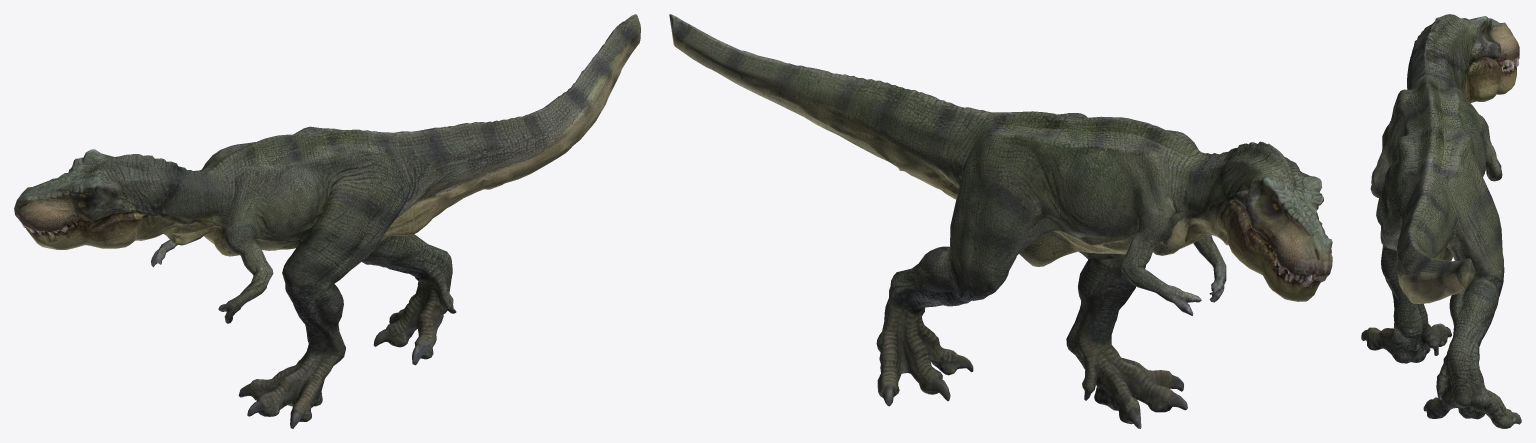
Rendered from dinosaur.glb.
3 views of the same model, side by side, from view 1: azimuth 30°, elevation 25°; view 2: azimuth 150°, elevation 25°; view 3: azimuth 270°, elevation 25° (orthographic). The views are drawn at different scales.
Parts seen in each view (by area): view 1: Dino_3; view 2: Dino_3; view 3: Dino_3.
Boxes of the visible parts, x1,y1,x2,y2 form: Dino_3: (14,14,640,428); Dino_3: (669,14,1332,428); Dino_3: (1361,14,1521,428).
Bounding box in the file's own units: 0.2887 × 0.1272 × 0.0685.
1 material, 1 textured.
